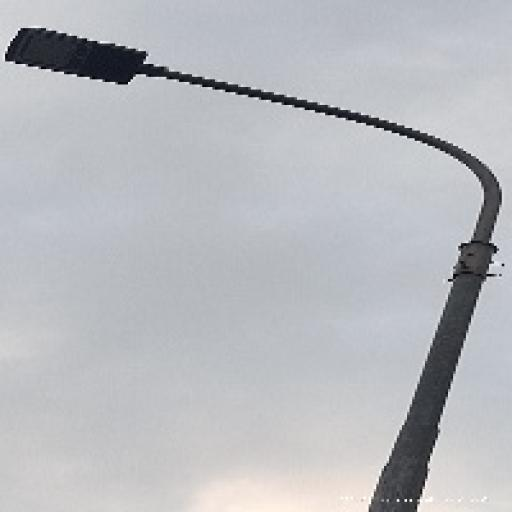Not Working: (0, 15, 161, 110)
